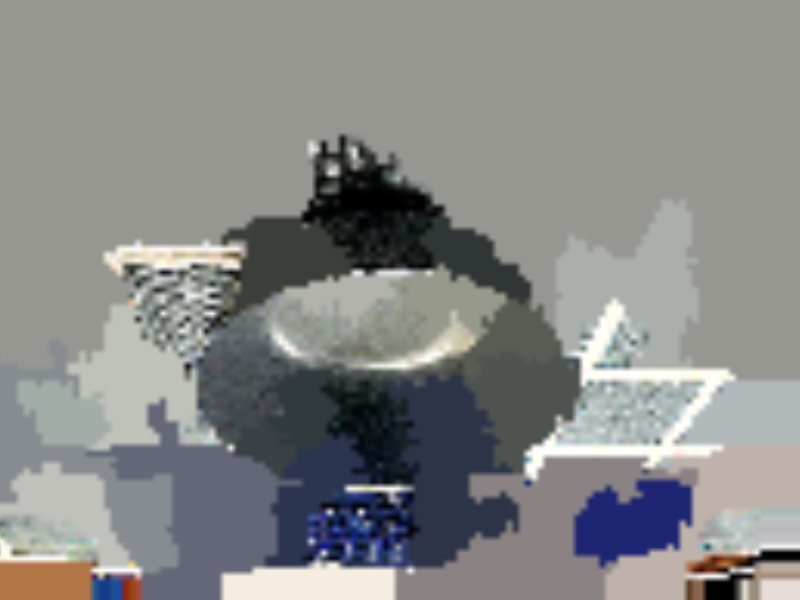bowl_big: (180, 202, 591, 494)
